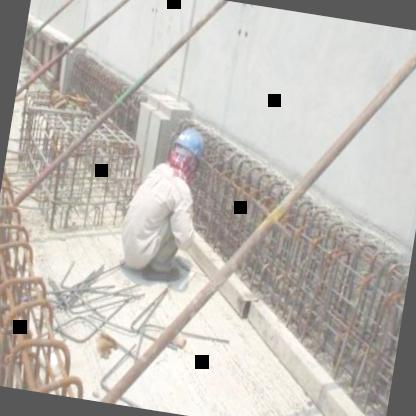helmet: (164, 122, 210, 180)
